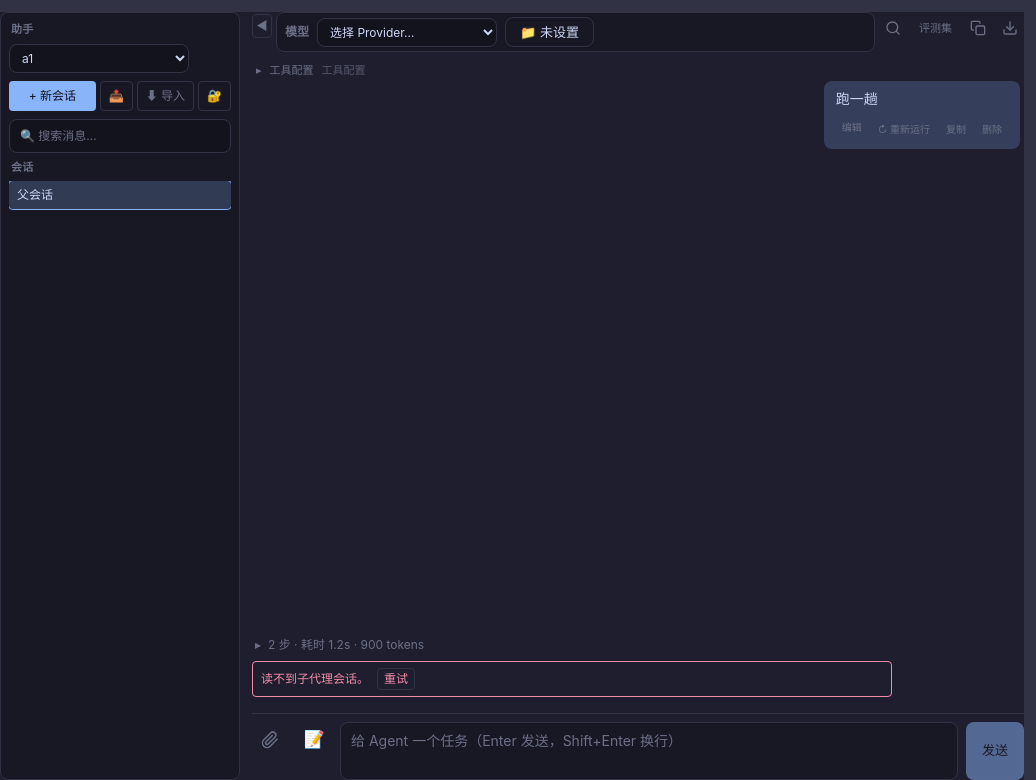
Test: 「子代理会话」那一格 › 点重试 ⇒ 再读一趟，读到了那一格才出来（那几发读没有自动重试，这是唯一一次）
Check: the button titled "查看本次运行分步明细" is shown, box [252,637,424,653]
Click the button with test id "sub-sessions-retry": (396, 679) [377,668,415,690]
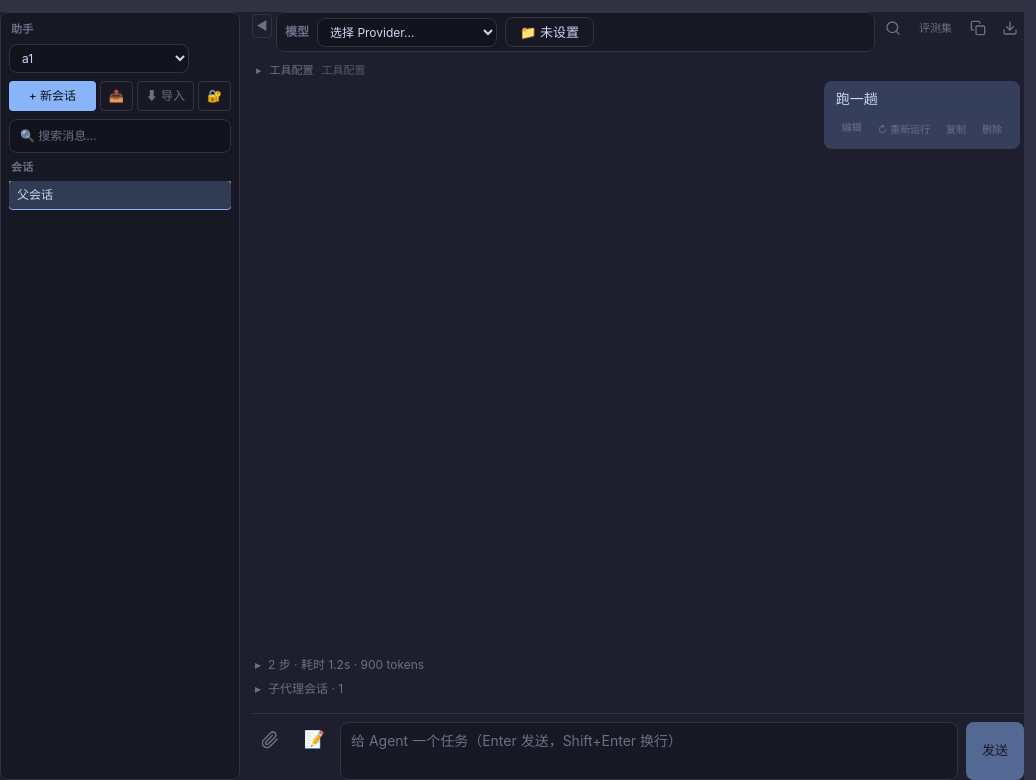
Check: the button with test id "sub-sessions-toggle" is shown, box [252,681,343,697]
